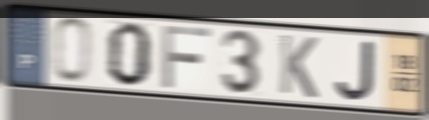0: (50, 14, 98, 86), (105, 20, 155, 89)
3: (220, 28, 266, 97)
F: (160, 23, 214, 91)
J: (333, 38, 377, 103)
K: (277, 32, 320, 101)
